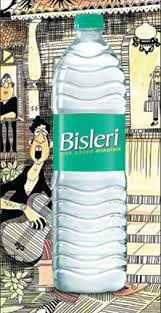Bisleri: (61, 125, 117, 158)
plastic: (58, 80, 124, 280)
